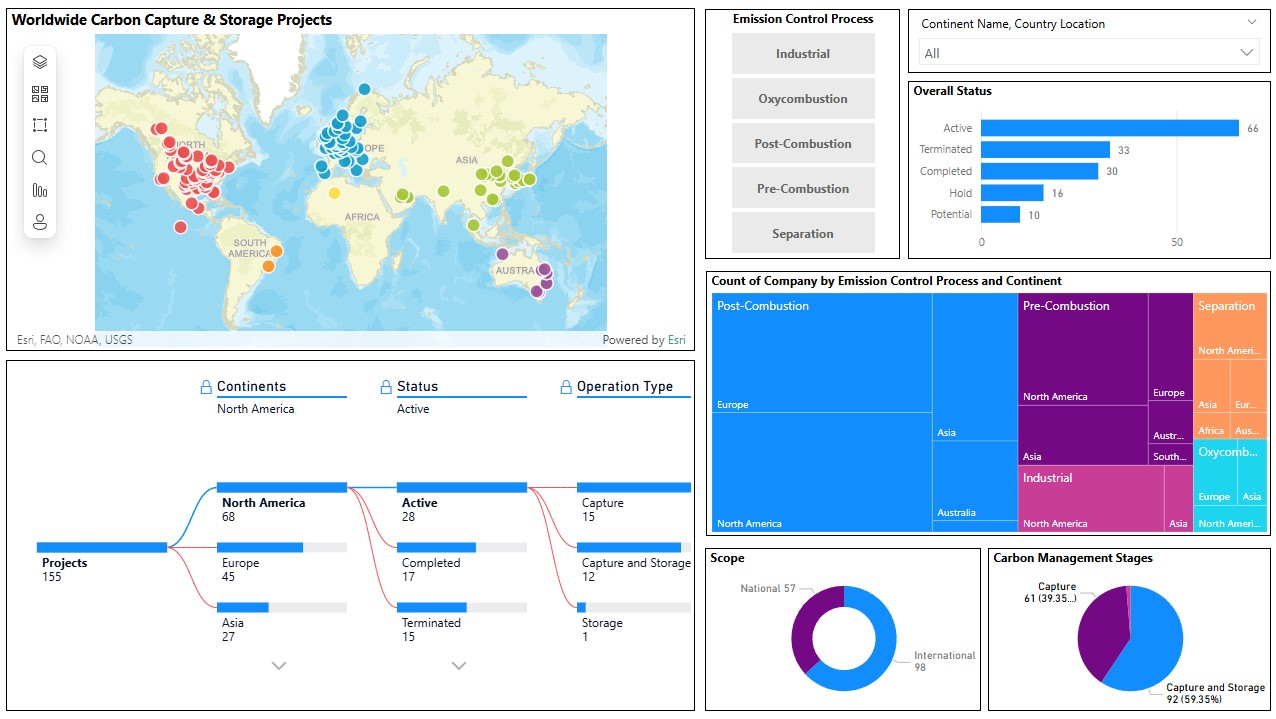

This screenshot's page, from the dashboard's own definition file:
{"tool":"powerbi","page":{"name":"Page 1","canvas":[1280,720],"ordinal":0},"visuals":[{"type":"esriVisual","title":"Worldwide Carbon Capture & Storage Projects","fields":{"Latitude":["CCS Map Data Jan2023 (1) - Map.Latitude"],"Longitude":["CCS Map Data Jan2023 (1) - Map.Longitude"],"Location":["CCS Map Data Jan2023 (1) - Map.State Location"],"Color":["CCS Map Data Jan2023 (1) - Map.Continent Name"]},"box":[7.1,8,689,343.2],"z":0},{"type":"clusteredBarChart","title":"Overall Status","fields":{"Category":["CCS Map Data Jan2023 (1) - Map.Overall Status"],"Y":["CountNonNull(CCS Map Data Jan2023 (1) - Map.Project ID)"]},"box":[916,80.7,355.6,178.2],"z":1000},{"type":"slicer","fields":{"Values":["CCS Map Data Jan2023 (1) - Map.Continent Name","CCS Map Data Jan2023 (1) - Map.Country Location"]},"box":[916,8.9,356.5,63.8],"z":2000},{"type":"treemap","title":"Count of Company by Emission Control Process and Continent","fields":{"Group":["CCS Map Data Jan2023 (1) - Map.Combustion / Separation"],"Values":["Count(CCS Map Data Jan2023 (1) - Map.Company)"],"Details":["CCS Map Data Jan2023 (1) - Map.Continent Name"]},"box":[706.7,271.3,565.7,264.2],"z":3000},{"type":"donutChart","title":"Scope","fields":{"Category":["CCS Map Data Jan2023 (1) - Map.Scope Name"],"Y":["CountNonNull(CCS Map Data Jan2023 (1) - Map.Scope Name)"]},"box":[705.8,548,276.7,163.2],"z":4000},{"type":"decompositionTreeVisual","fields":{"Analyze":["CountNonNull(CCS Map Data Jan2023 (1) - Map.Project ID)"],"ExplainBy":["CCS Map Data Jan2023 (1) - Map.Continent Name","CCS Map Data Jan2023 (1) - Map.Overall Status","CCS Map Data Jan2023 (1) - Map.Storage and/or Capture"]},"box":[6.7,360,688.9,351.1],"z":5000},{"type":"slicer","title":"Emission Control Process","fields":{"Values":["CCS Map Data Jan2023 (1) - Map.Combustion / Separation"]},"box":[706.7,8.9,202.2,250],"z":6000},{"type":"pieChart","title":"Carbon Management Stages","fields":{"Category":["CCS Map Data Jan2023 (1) - Map.Storage and/or Capture"],"Y":["CountNonNull(CCS Map Data Jan2023 (1) - Map.Project ID)"]},"box":[988.7,548,282.9,163.2],"z":7000}]}

Visuals, with their boxes in screenshot pixels (x1, y1, x2, y2):
"Worldwide Carbon Capture & Storage Projects" esriVisual: {"x1": 24, "y1": 15, "x2": 701, "y2": 352}
"Overall Status" clusteredBarChart: {"x1": 917, "y1": 86, "x2": 1267, "y2": 261}
slicer - CCS Map Data Jan2023 (1) - Map.Continent Name x CCS Map Data Jan2023 (1) - Map.Country Location: {"x1": 917, "y1": 15, "x2": 1268, "y2": 78}
"Count of Company by Emission Control Process and Continent" treemap: {"x1": 711, "y1": 273, "x2": 1267, "y2": 533}
"Scope" donutChart: {"x1": 710, "y1": 545, "x2": 982, "y2": 706}
decompositionTreeVisual - CountNonNull(CCS Map Data Jan2023 (1) - Map.Project ID) x CCS Map Data Jan2023 (1) - Map.Continent Name: {"x1": 23, "y1": 361, "x2": 700, "y2": 706}
"Emission Control Process" slicer: {"x1": 711, "y1": 15, "x2": 910, "y2": 261}
"Carbon Management Stages" pieChart: {"x1": 989, "y1": 545, "x2": 1267, "y2": 706}
